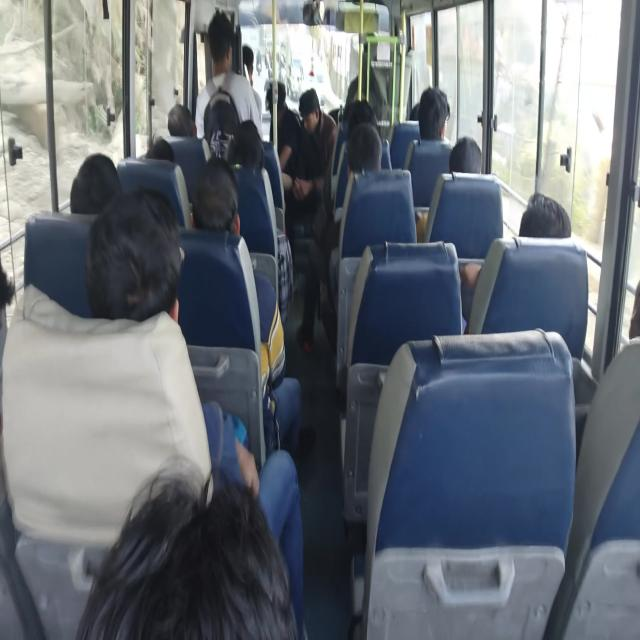person: (88, 457, 241, 640), (87, 198, 193, 376), (598, 236, 640, 366), (0, 253, 42, 376), (76, 138, 132, 228), (183, 169, 246, 244), (345, 128, 396, 196), (220, 128, 268, 197), (447, 128, 490, 185), (510, 190, 558, 238), (205, 21, 237, 81), (418, 90, 448, 151), (162, 94, 194, 146), (139, 128, 174, 175), (342, 98, 377, 130), (264, 85, 292, 123), (301, 87, 324, 131), (220, 110, 246, 140), (237, 44, 260, 76), (400, 92, 417, 121)
